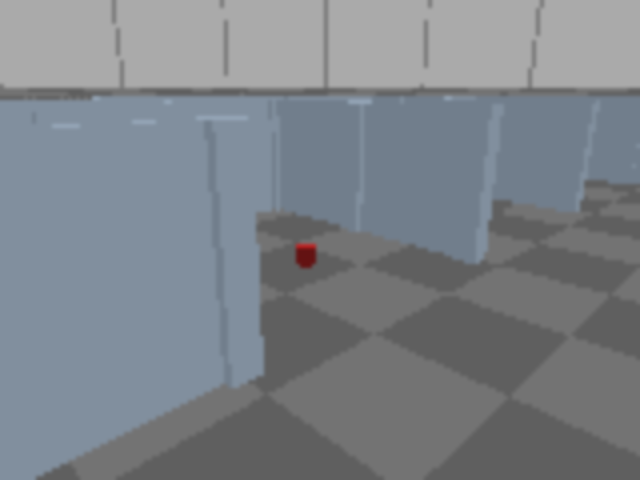puck: (298, 243, 316, 267)
